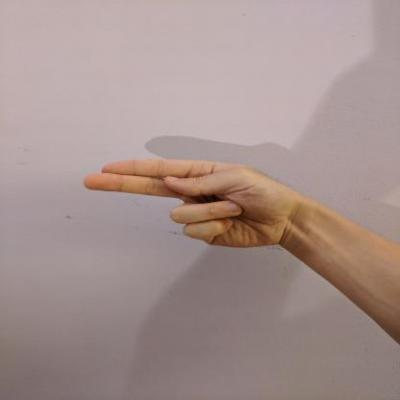hand: (78, 156, 299, 252)
